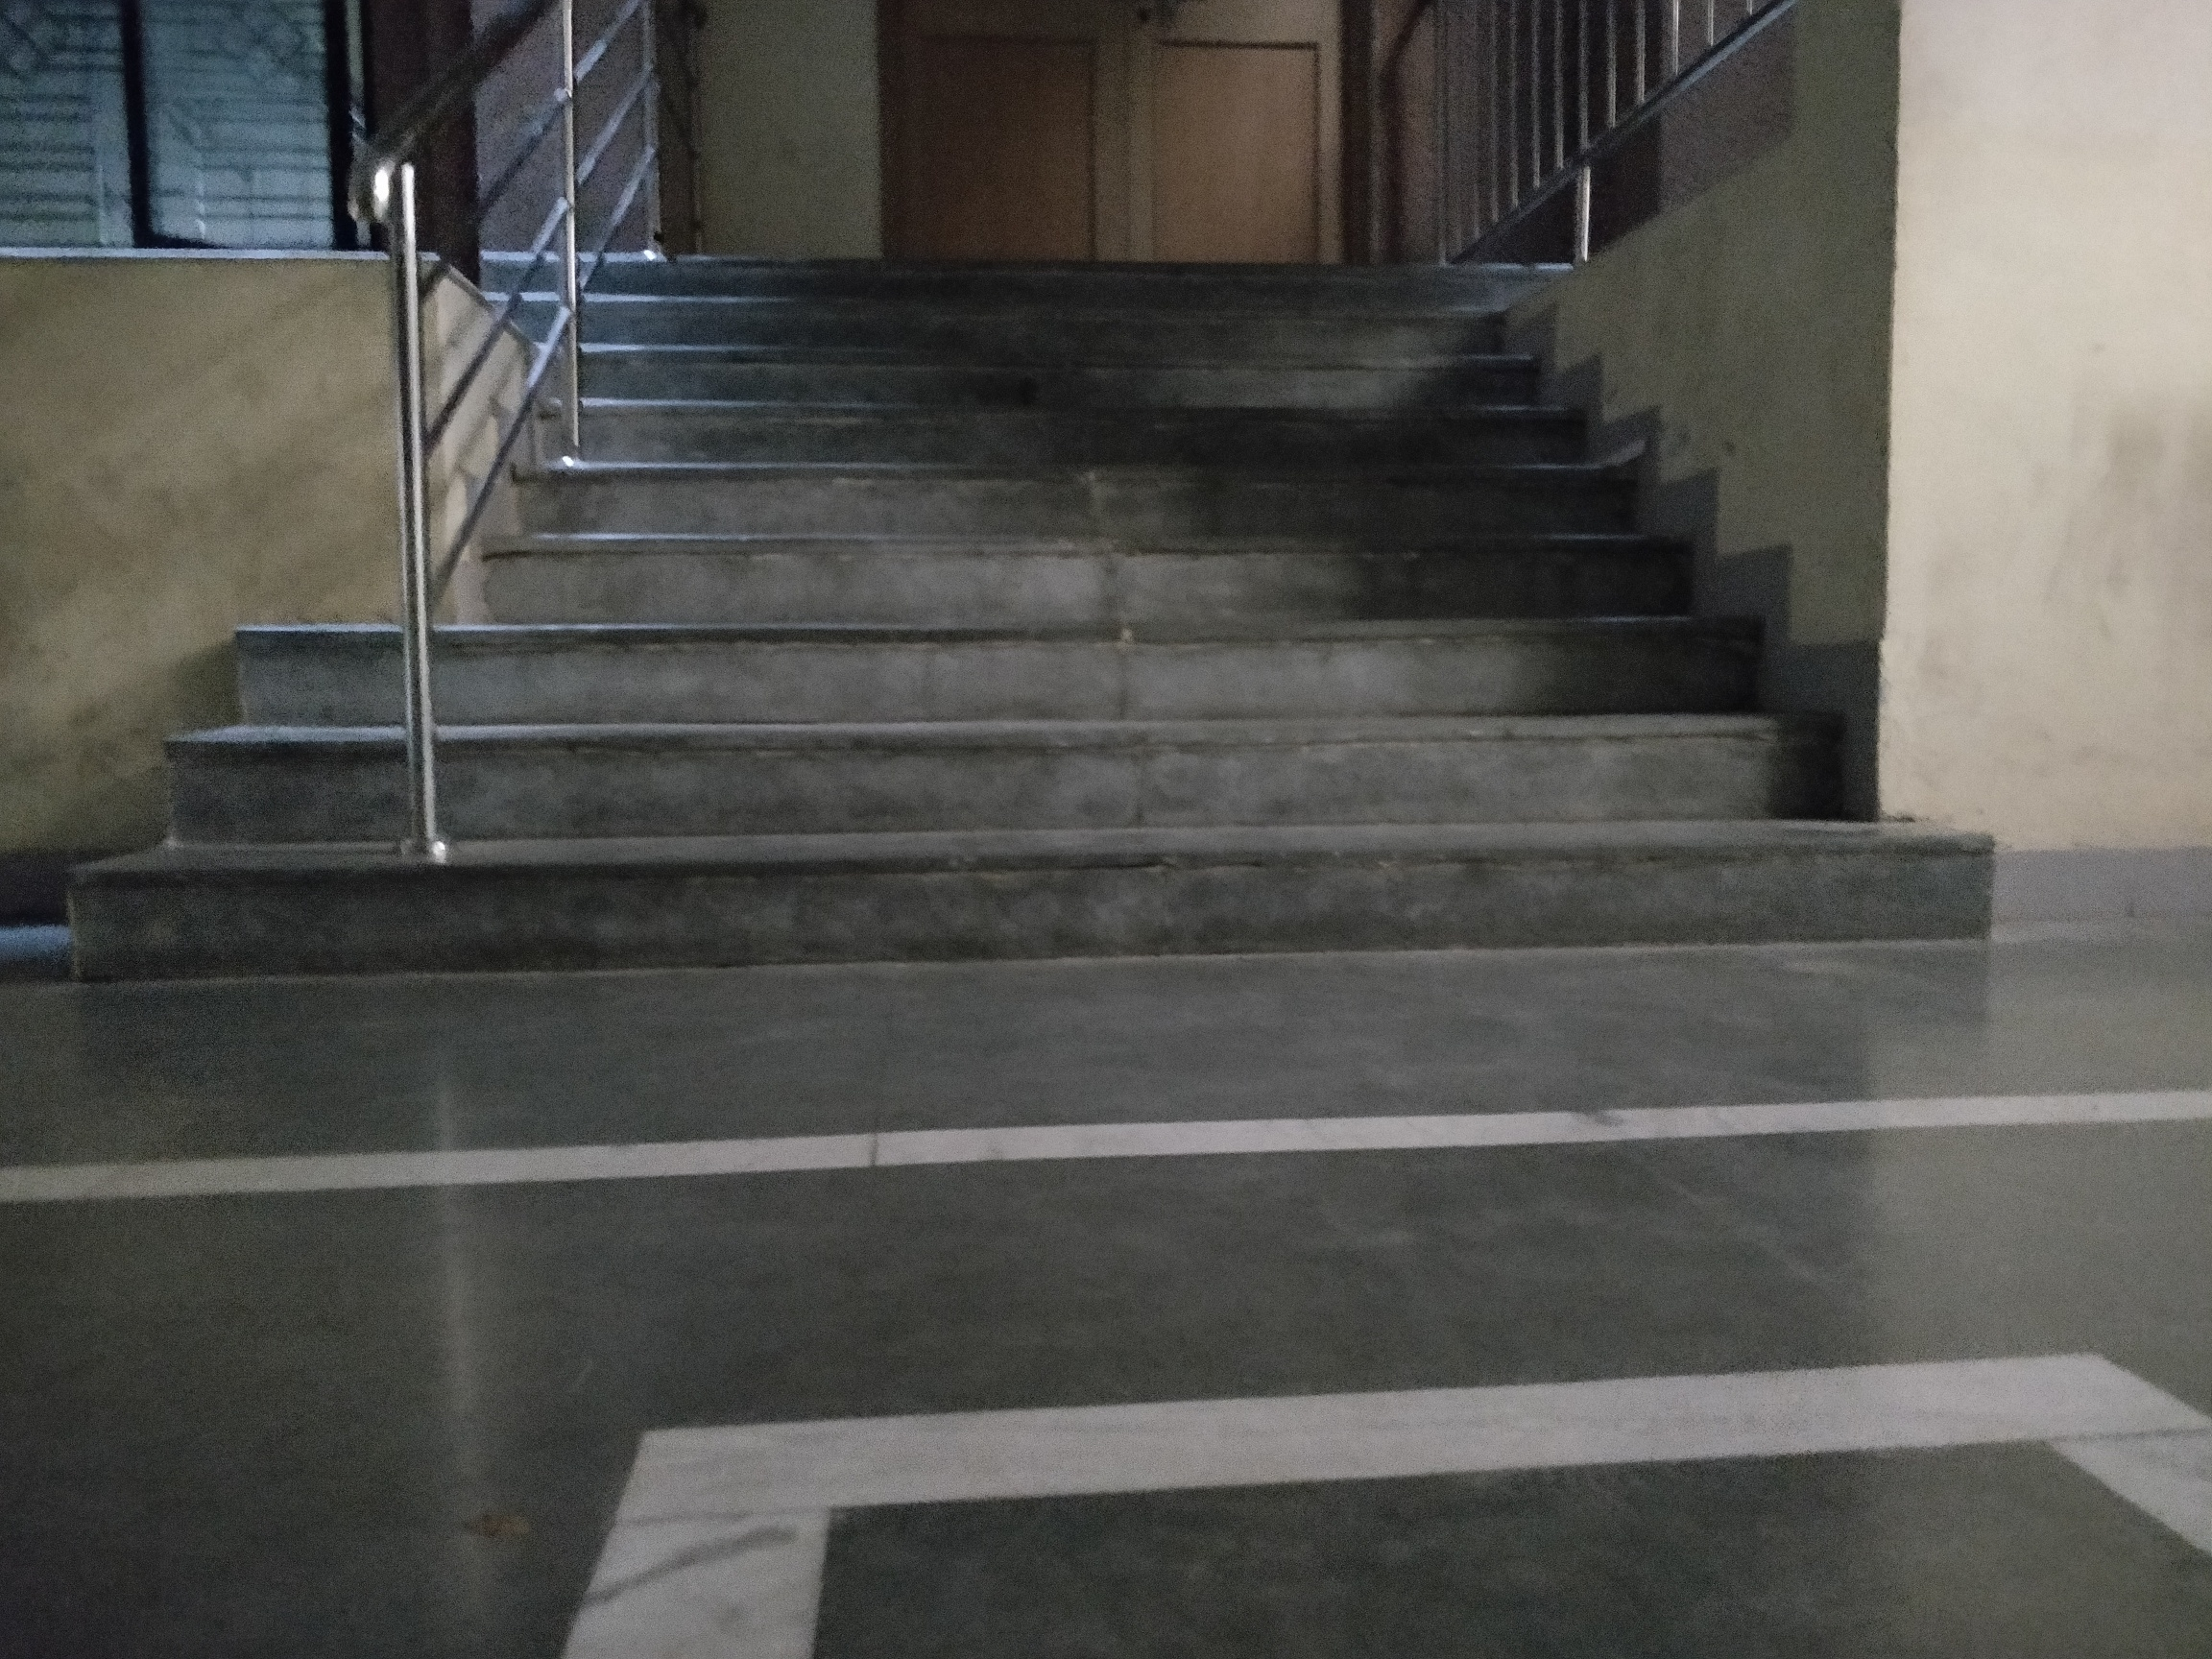stairs_up: (84, 218, 2017, 978)
